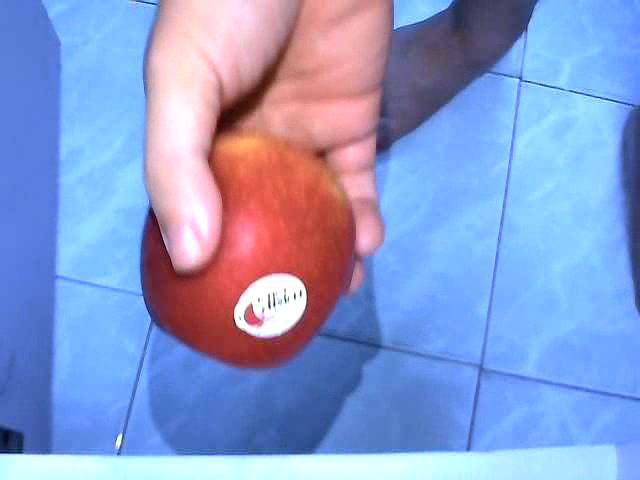apple: (139, 131, 356, 370)
